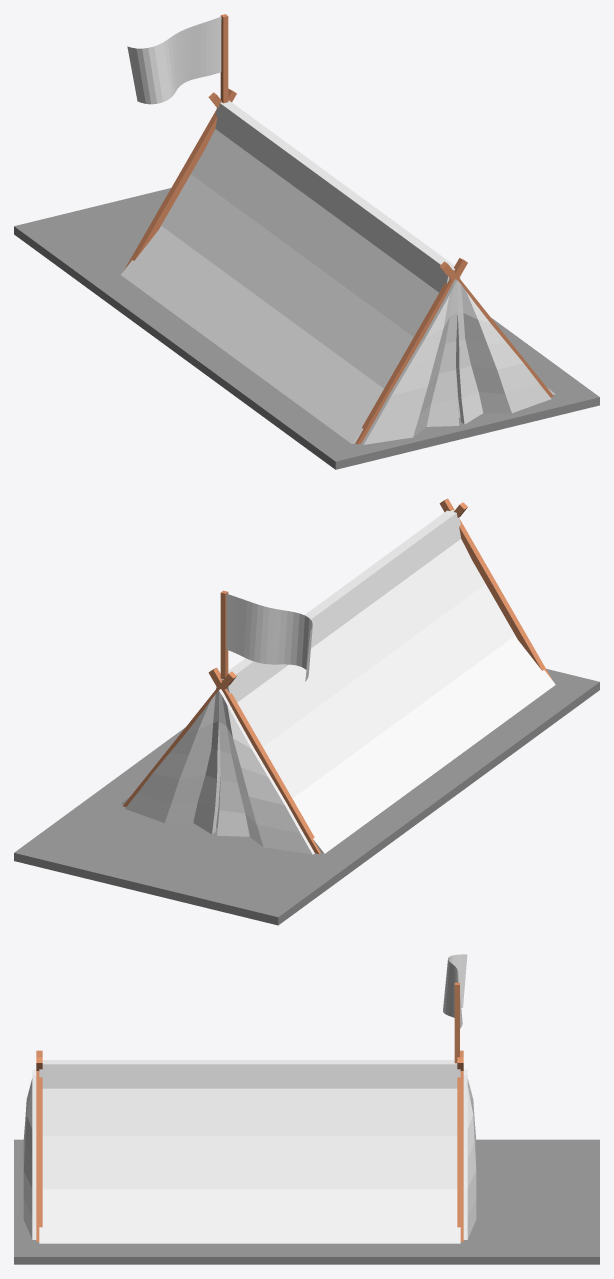
Rendered from Hospital.fbx.
3 renders of one model, top to bottom at view 1: azimuth 30°, elevation 25°; view 2: azimuth 150°, elevation 25°; view 3: azimuth 270°, elevation 25°, orthographic. The views are drawn at different scales.
Parts seen in each view (by area): view 1: Cube.003, Cube, Cube.004, Plane, Cube.001, Cube.005; view 2: Cube.003, Cube, Cube.004, Plane, Cube.001, Cube.005; view 3: Cube.003, Cube, Cube.004, Cube.001, Plane, Cube.005.
Part boxes in pixels (left/top/right/bottom): Cube.003: left=121, top=100, right=555, bottom=443; Cube: left=14, top=188, right=599, bottom=469; Cube.004: left=361, top=279, right=551, bottom=444; Plane: left=127, top=16, right=221, bottom=104; Cube.001: left=124, top=88, right=553, bottom=444; Cube.005: left=220, top=14, right=228, bottom=103; Cube.003: left=121, top=510, right=555, bottom=853; Cube: left=14, top=668, right=599, bottom=925; Cube.004: left=125, top=689, right=314, bottom=854; Plane: left=226, top=593, right=312, bottom=681; Cube.001: left=123, top=498, right=552, bottom=854; Cube.005: left=220, top=590, right=228, bottom=679; Cube.003: left=39, top=1060, right=460, bottom=1243; Cube: left=14, top=1139, right=599, bottom=1264; Cube.004: left=23, top=1069, right=476, bottom=1239; Cube.001: left=36, top=1050, right=463, bottom=1241; Plane: left=443, top=954, right=467, bottom=1028; Cube.005: left=454, top=982, right=459, bottom=1063.
Bounding box in the file's own units: 404 × 369 × 852.
